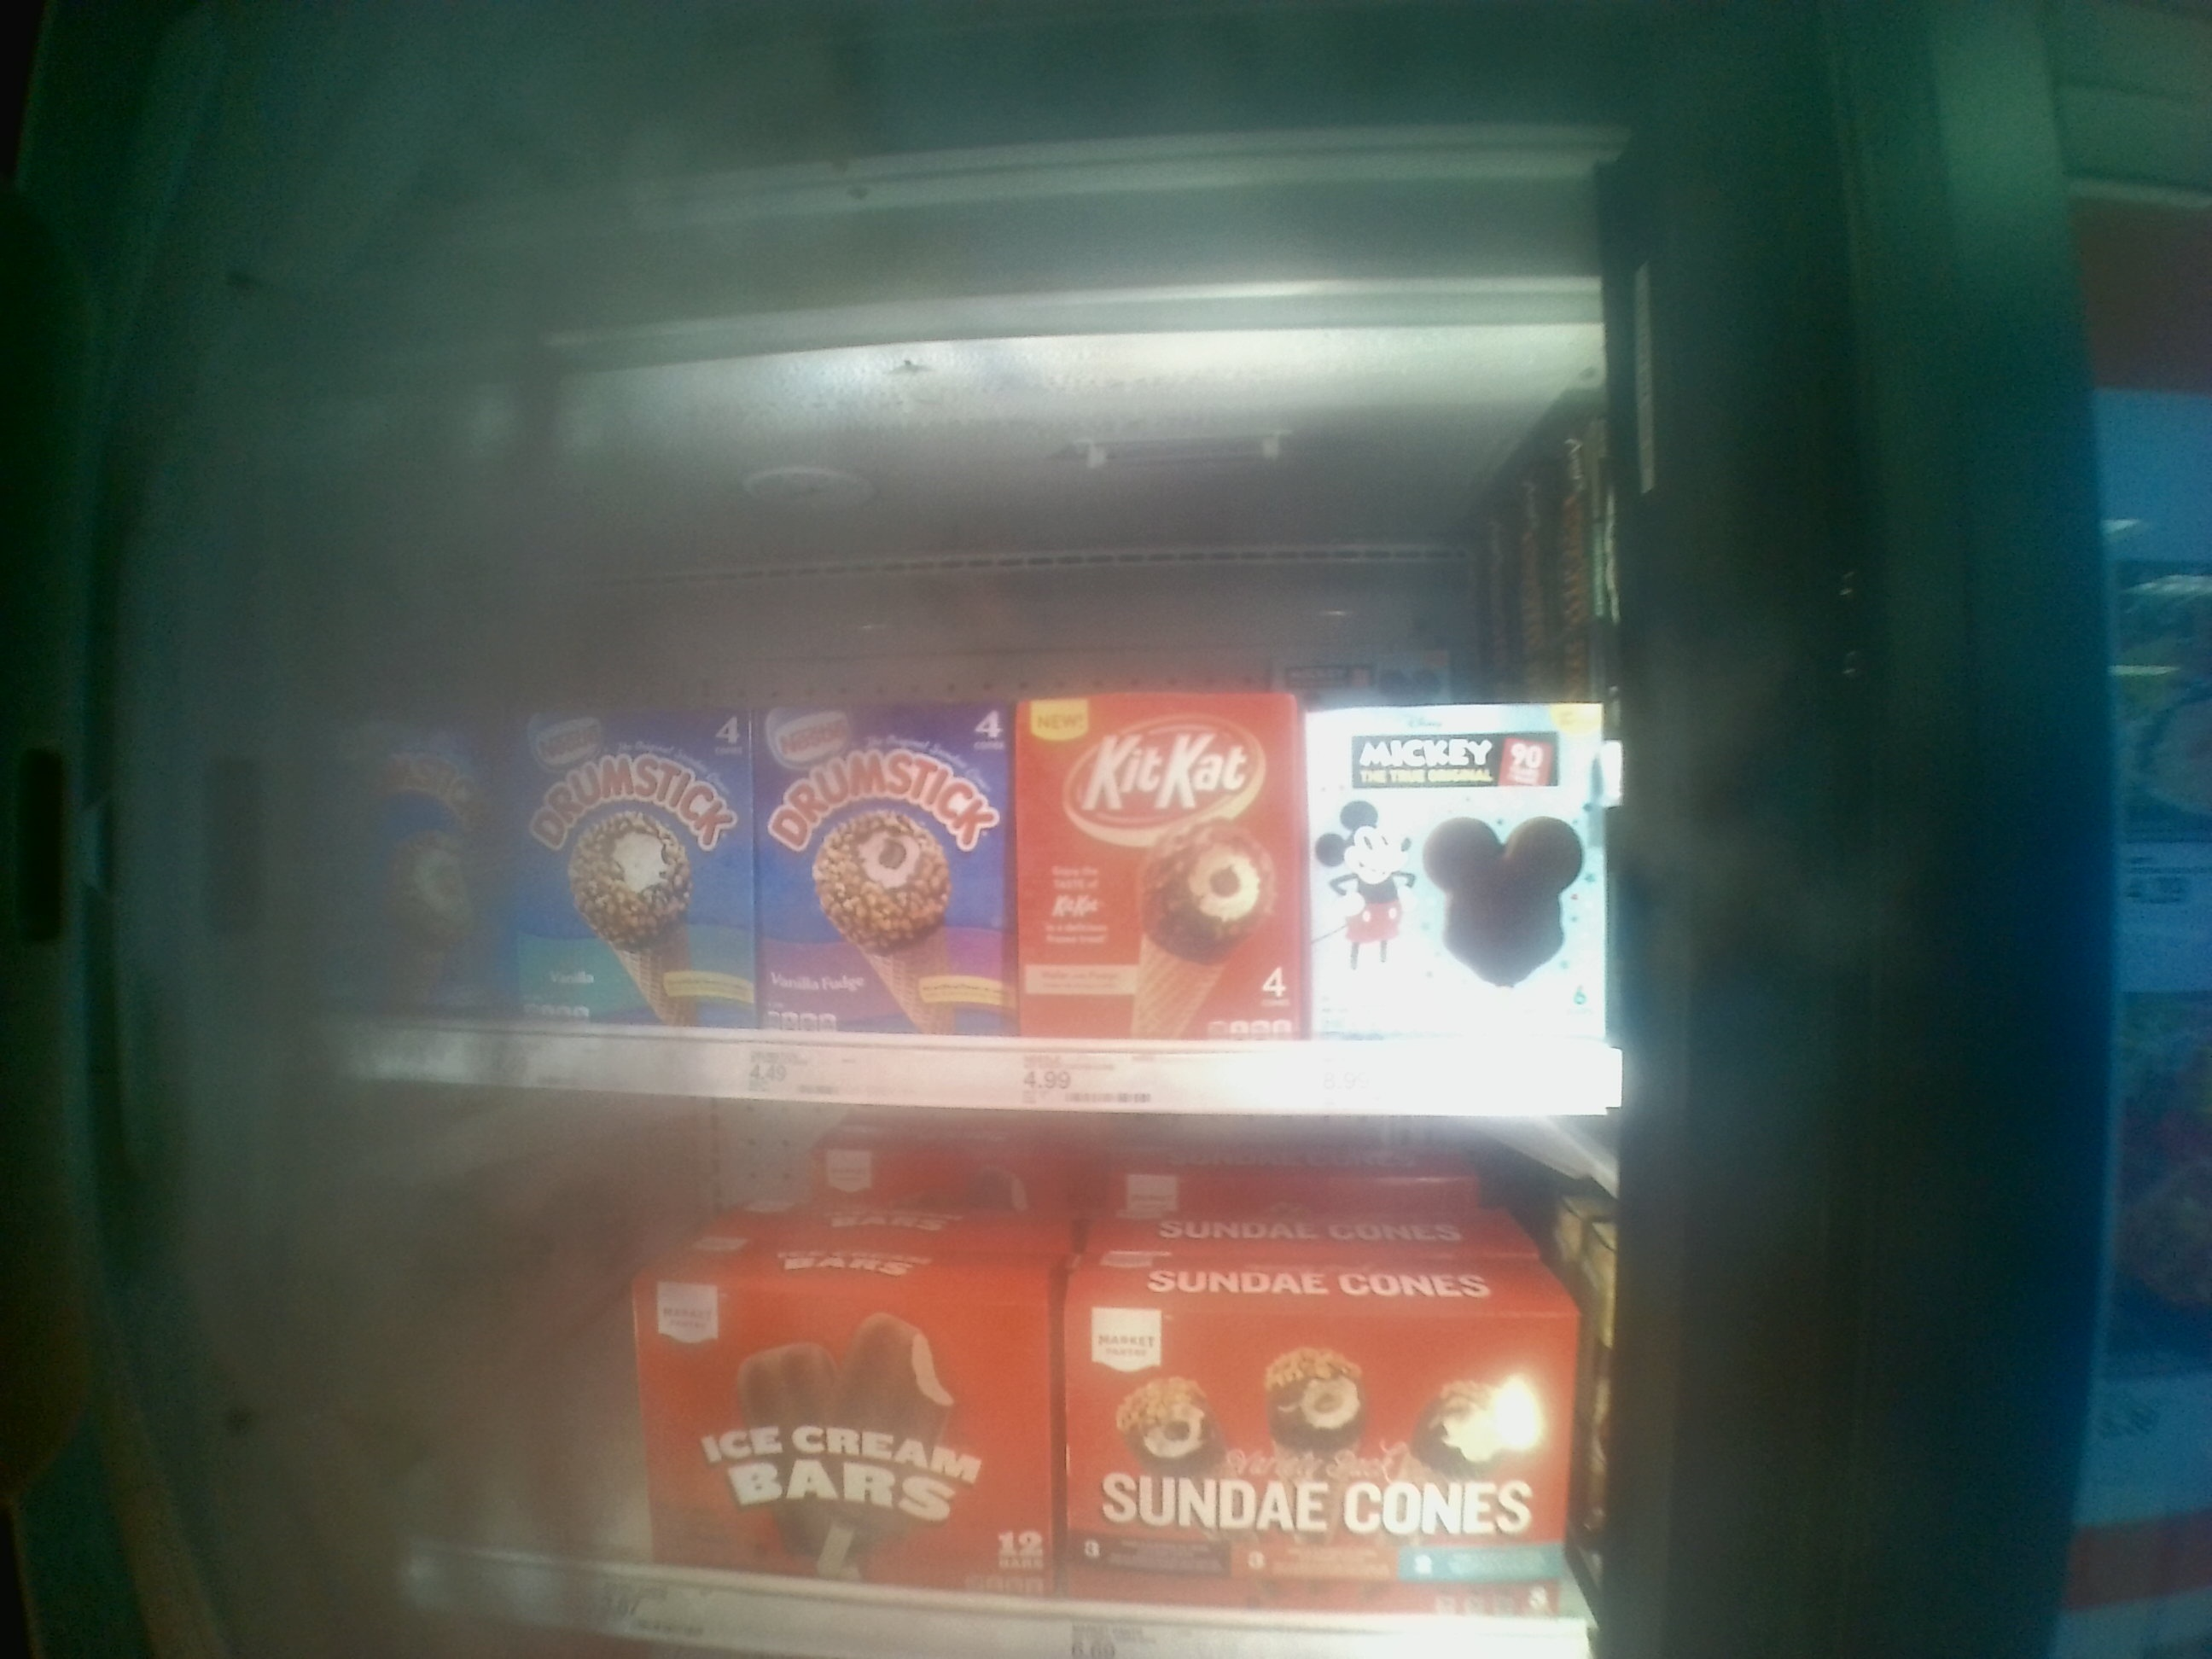shelf: (310, 369, 1622, 1098), (305, 1105, 1623, 1650)
